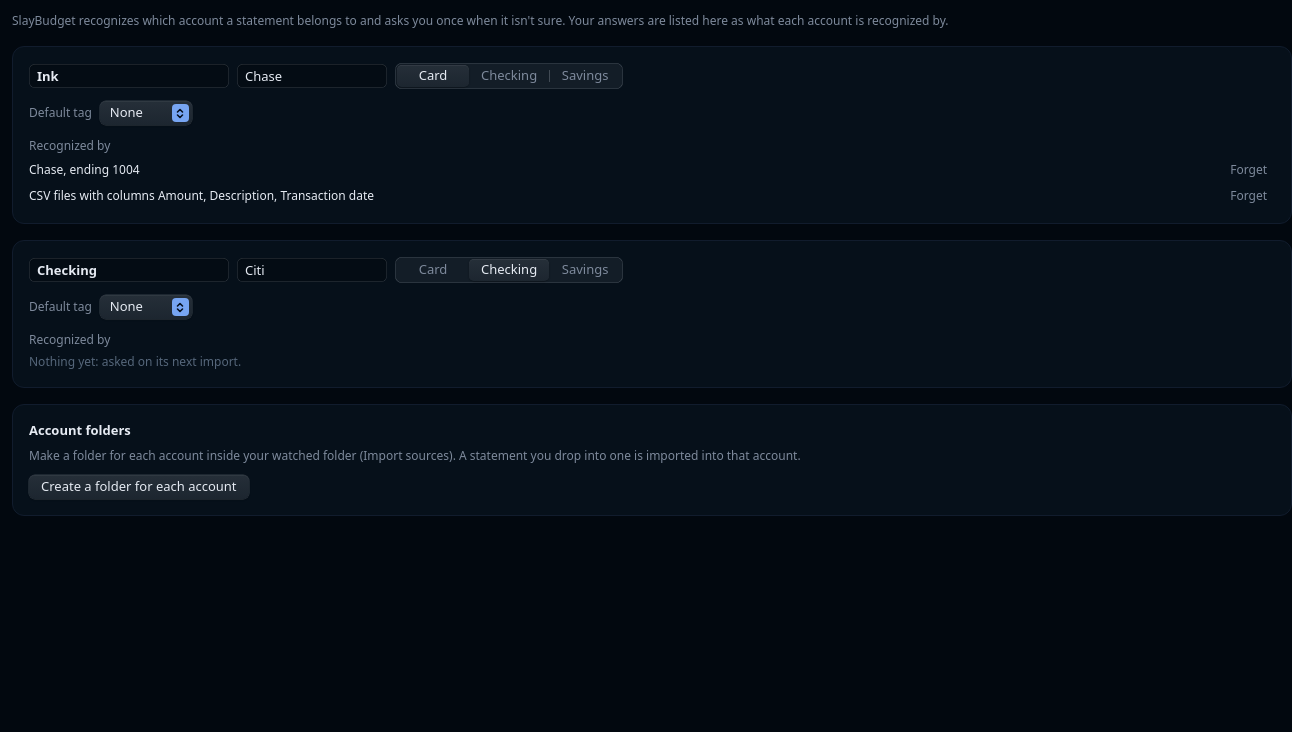
Test case: AccountsPane › makes a folder for each account in the watched folder
Click the button "Create a folder for each account" at (139, 486), box [29,474,249,498]
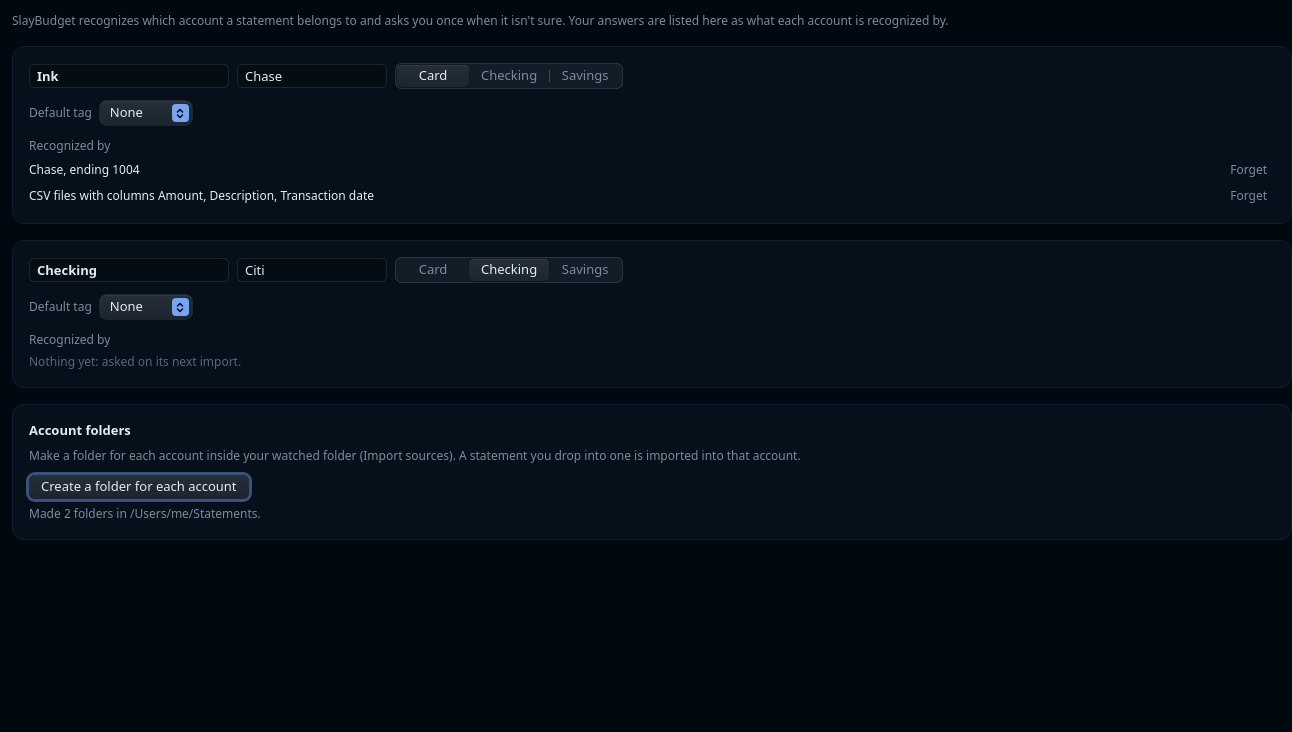
Expected: the message shows "Made 2 folders in /Users/me/Statements", [29,504,261,522]
